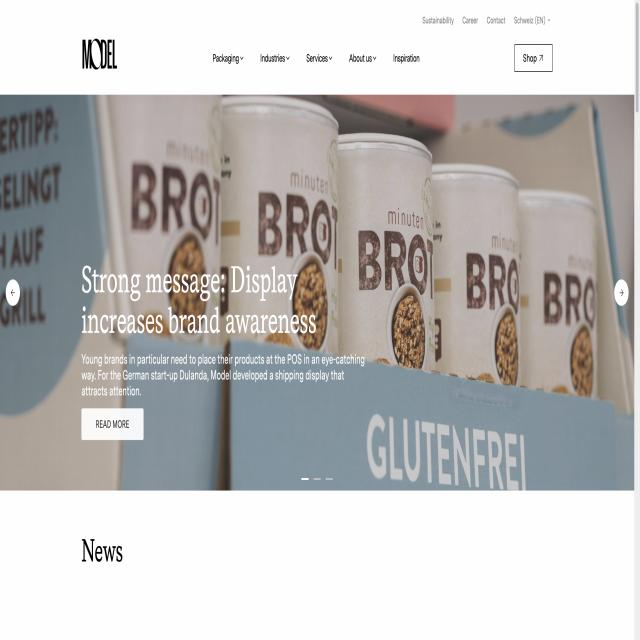Logo: (74, 29, 124, 80)
Navigation: (206, 45, 424, 77)
